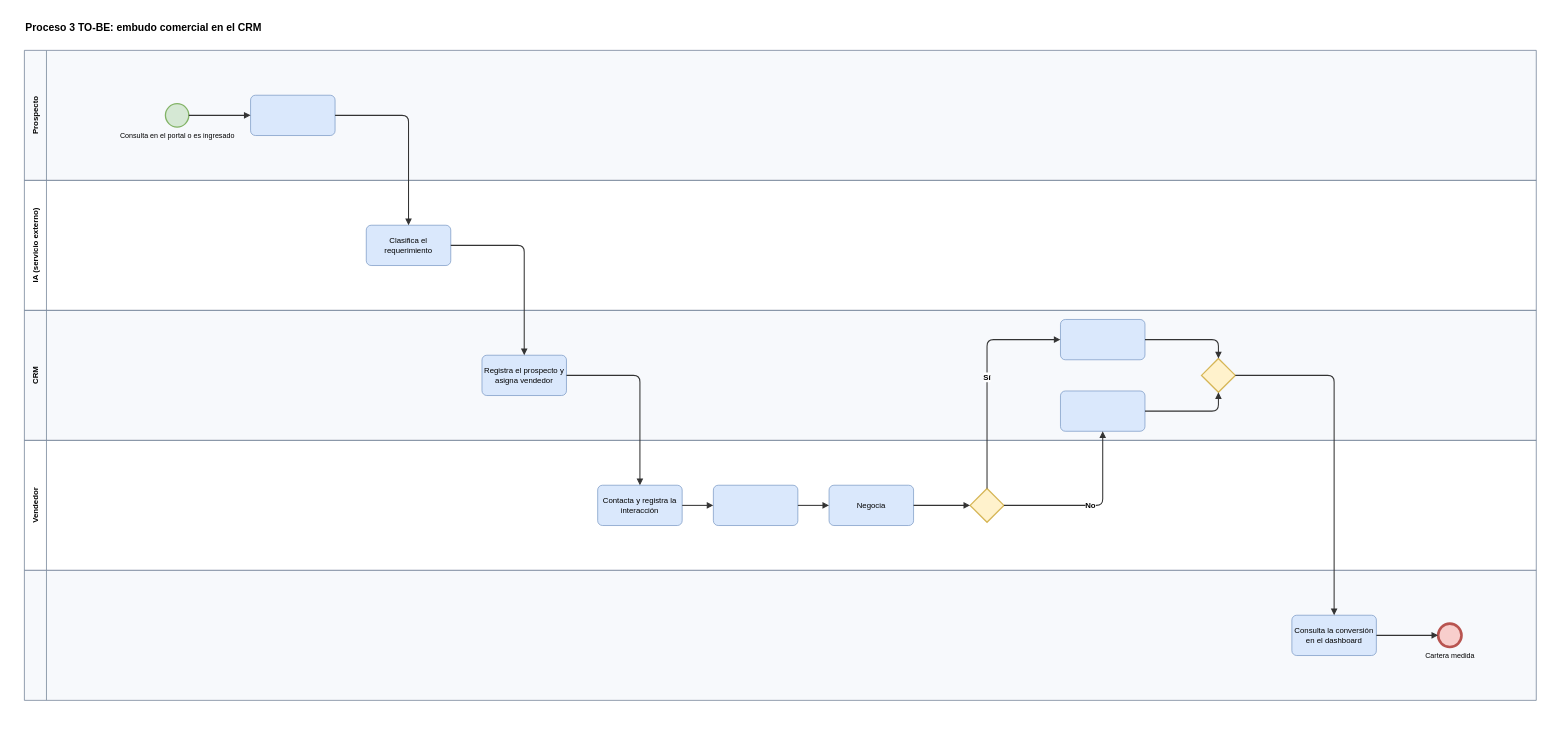
This 1560x737 diagram has some shape labels left out. Here are the shapes that lost their labels. From the top down, the box of each, then its label:
(250, 95, 335, 136): Envía su requerimiento
(1060, 319, 1145, 360): Convierte en cliente (Cliente ganado)
(1060, 390, 1145, 431): Cierra como Perdido, con el motivo
(713, 485, 798, 526): Envía la propuesta
(969, 488, 1004, 523): ¿Acepta?
(24, 570, 1536, 700): Gerencia
